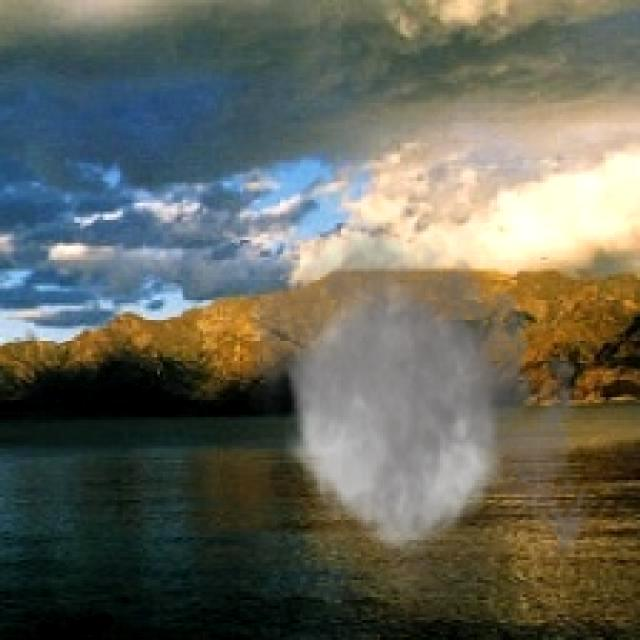no_helmet: (234, 203, 600, 626)
